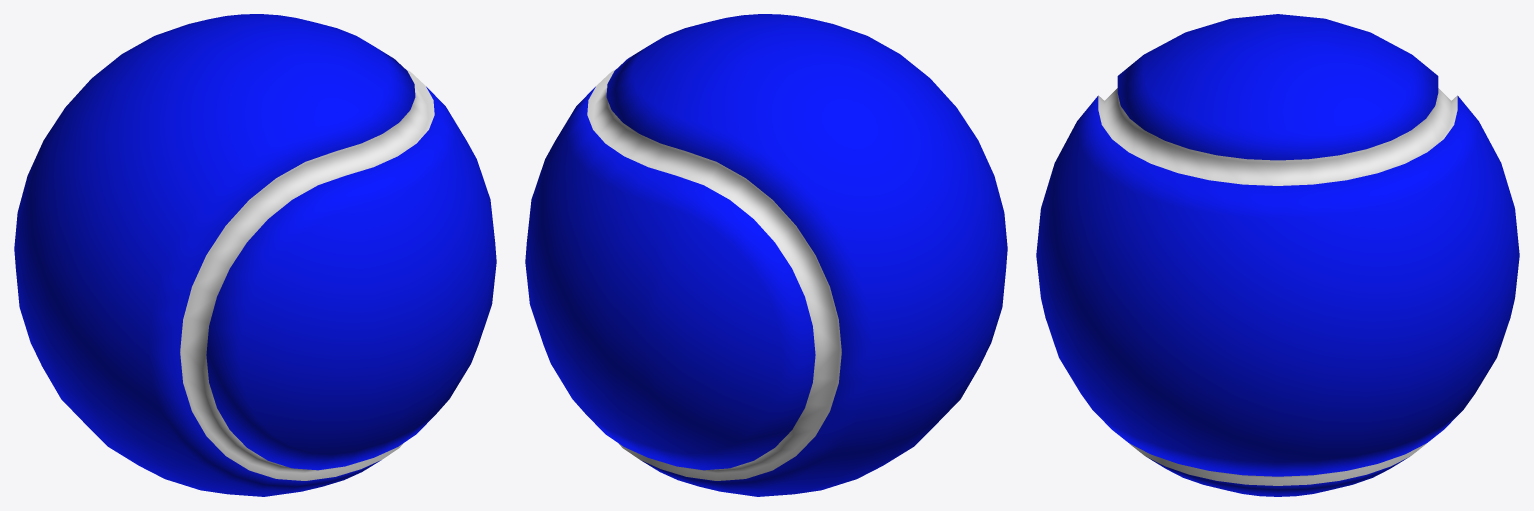
The model's file is ball_blue.dae.
The picture shows the model from 3 angles, left to right: view 1: azimuth 30°, elevation 25°; view 2: azimuth 150°, elevation 25°; view 3: azimuth 270°, elevation 25°; orthographic projection.
Parts seen in each view (by area): view 1: Sphere.001; view 2: Sphere.001; view 3: Sphere.001.
Boxes of the visible parts, <box> form: Sphere.001: <box>14,14,496,496</box>; Sphere.001: <box>525,14,1007,496</box>; Sphere.001: <box>1036,14,1519,496</box>.
Size of the model in its own units: 0.0686 by 0.0686 by 0.0686.
